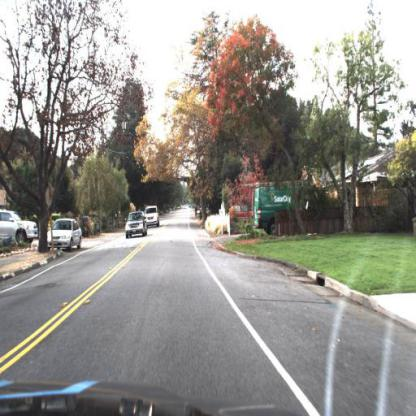car: (252, 184, 322, 231), (1, 211, 40, 251), (47, 218, 83, 254), (125, 210, 148, 239), (126, 209, 147, 238), (145, 206, 162, 227)
pedestrian: (195, 207, 199, 221)
